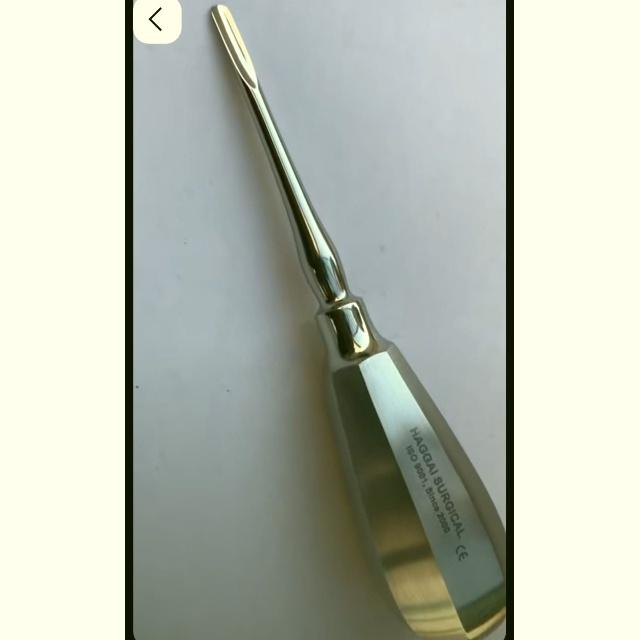botador: (206, 4, 508, 639)
